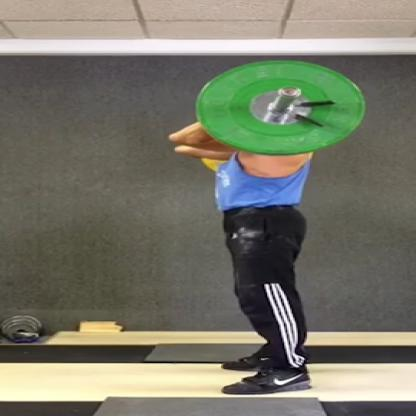Barbell: (184, 58, 376, 155)
